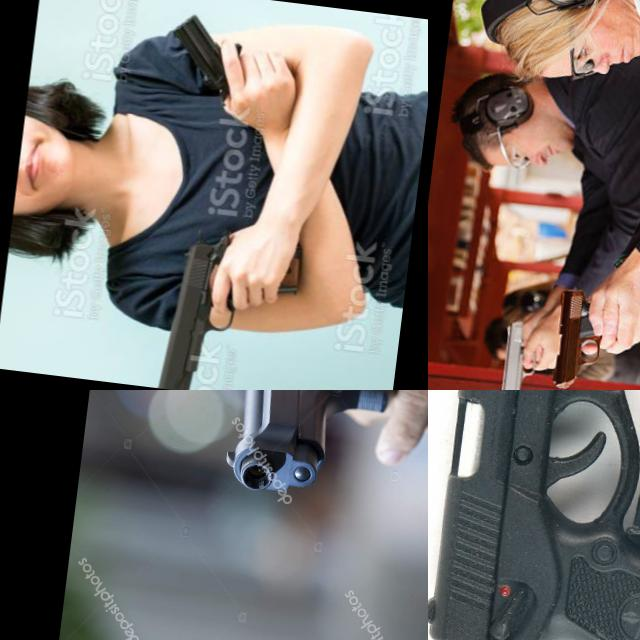handgun: (428, 390, 640, 640), (150, 215, 310, 390), (208, 390, 428, 516), (547, 282, 627, 390), (494, 315, 552, 390)
